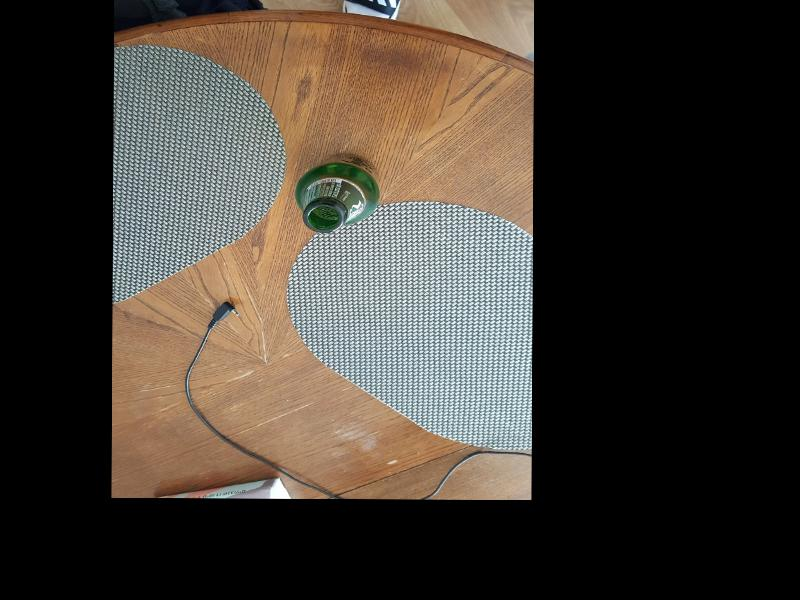Beer: (294, 154, 379, 233)
